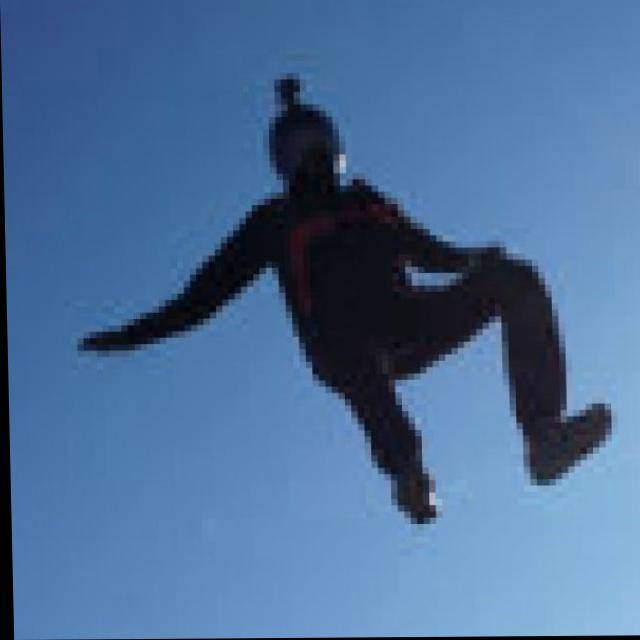fall: (66, 70, 617, 529)
